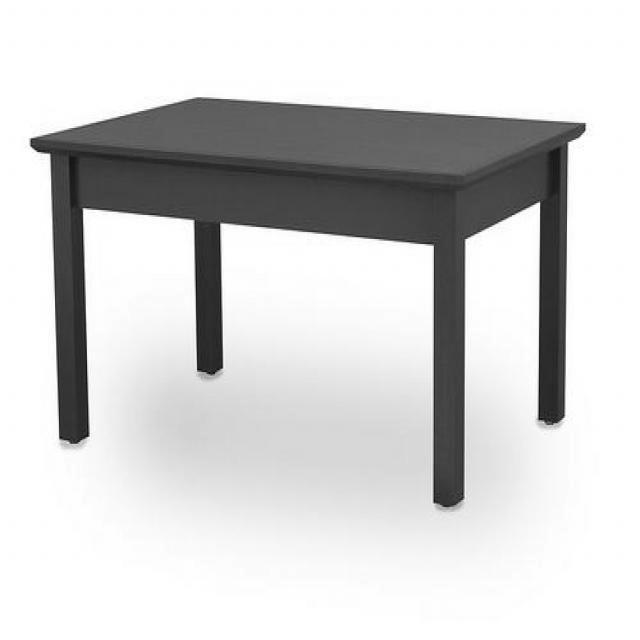table: (31, 92, 582, 504)
